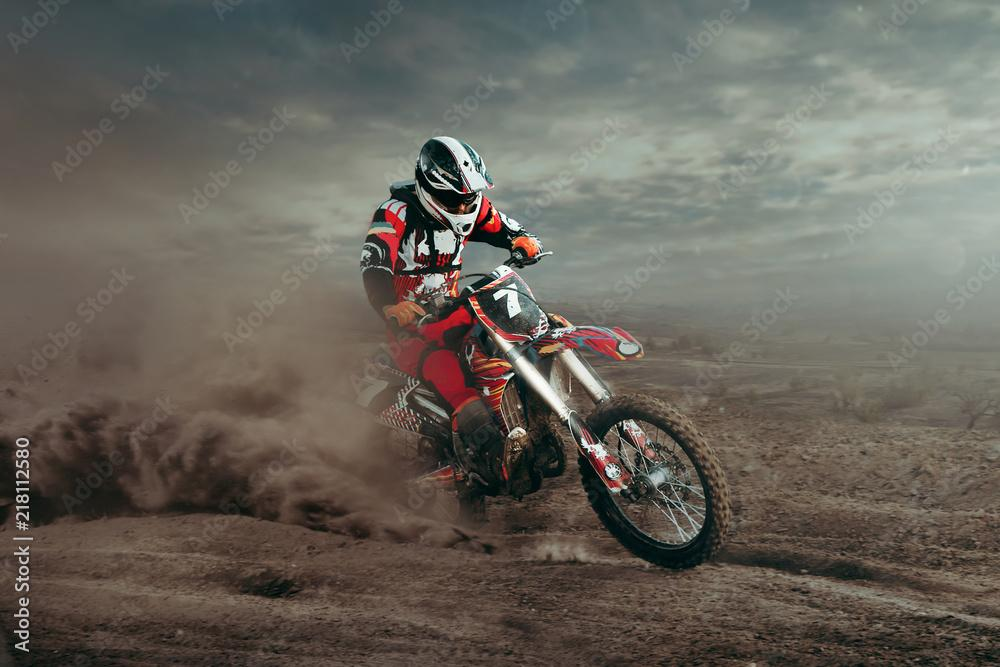helmet: (414, 135, 496, 237)
